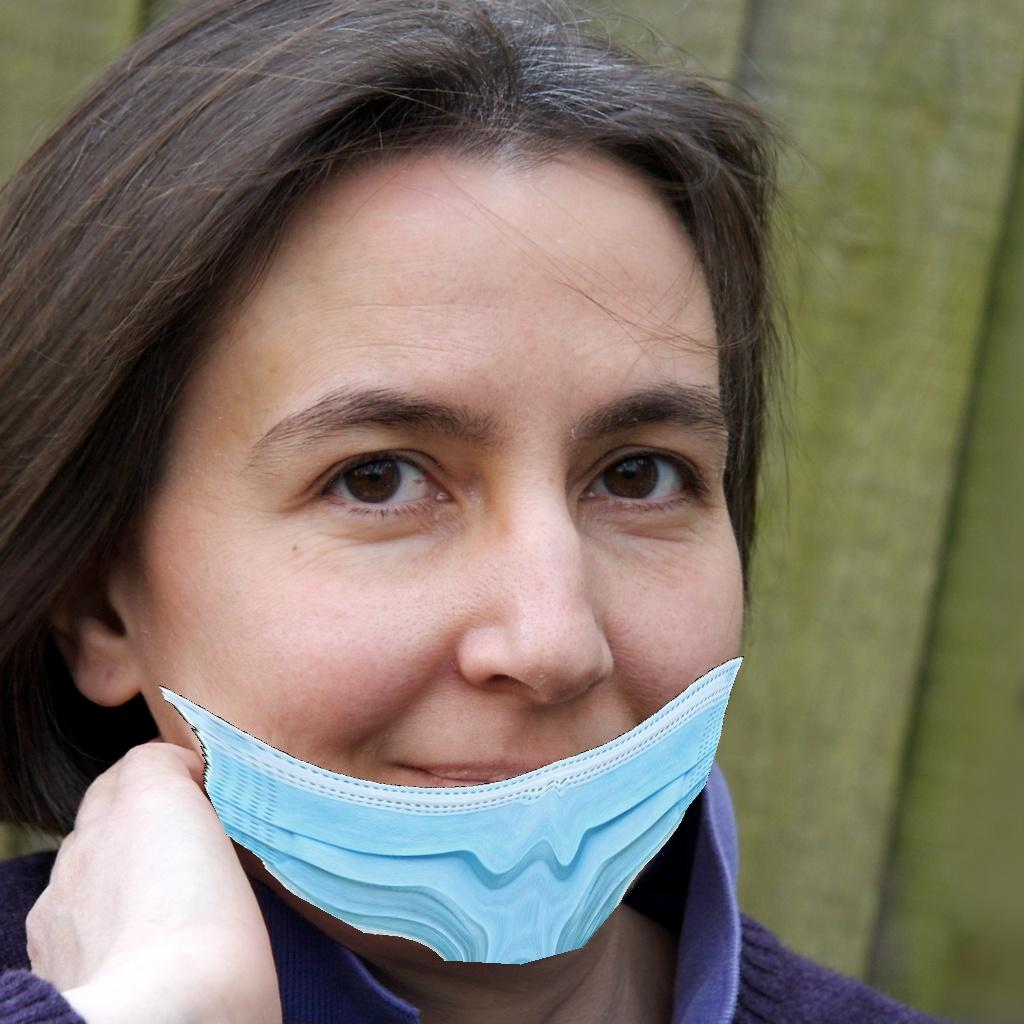Máscara Incorreta: (133, 273, 759, 963)
